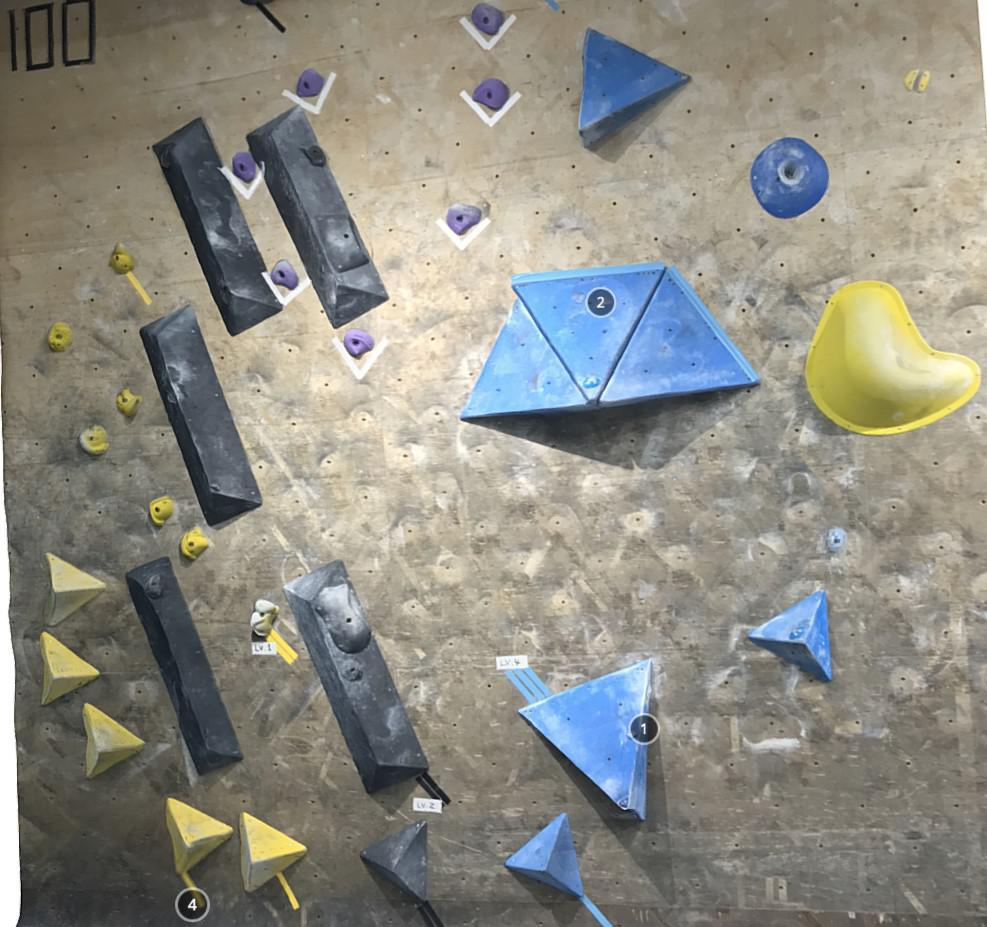hold: (283, 560, 429, 792), (245, 105, 389, 329), (153, 116, 283, 336), (805, 281, 982, 436), (139, 304, 262, 526), (125, 556, 243, 776), (598, 264, 761, 410), (510, 262, 665, 409), (518, 659, 652, 820), (460, 297, 599, 421), (578, 28, 691, 148), (747, 589, 832, 682), (504, 812, 583, 898), (750, 137, 830, 219), (238, 811, 309, 894), (360, 819, 428, 904), (165, 797, 235, 876), (82, 702, 146, 780), (43, 552, 107, 626), (40, 630, 101, 706), (315, 583, 371, 654), (315, 213, 370, 273), (249, 599, 280, 638), (446, 203, 482, 235), (472, 78, 509, 109), (471, 3, 505, 36), (179, 527, 211, 561), (79, 424, 110, 457), (108, 241, 136, 275), (344, 328, 375, 358), (116, 387, 144, 418), (270, 259, 298, 290), (148, 495, 175, 527), (46, 321, 73, 353), (296, 68, 324, 98), (232, 151, 256, 183), (298, 145, 328, 167), (825, 527, 847, 554), (339, 659, 363, 681), (143, 575, 164, 600), (159, 142, 176, 171), (789, 619, 811, 639), (903, 68, 920, 92), (917, 70, 931, 93), (168, 365, 181, 384), (582, 376, 601, 389), (619, 797, 629, 809), (626, 731, 637, 740), (210, 483, 221, 492)
